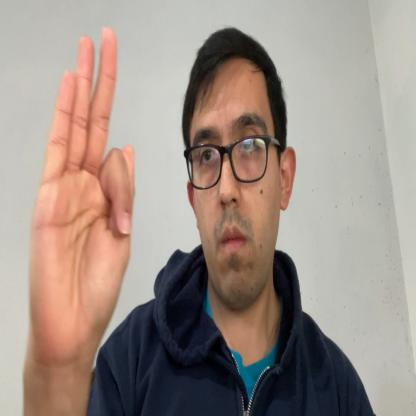F: (29, 27, 136, 343)
